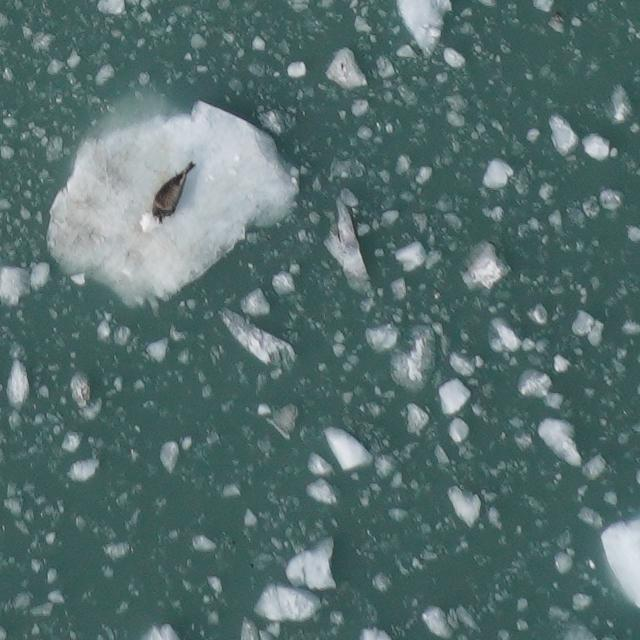seal: (148, 157, 198, 228)
